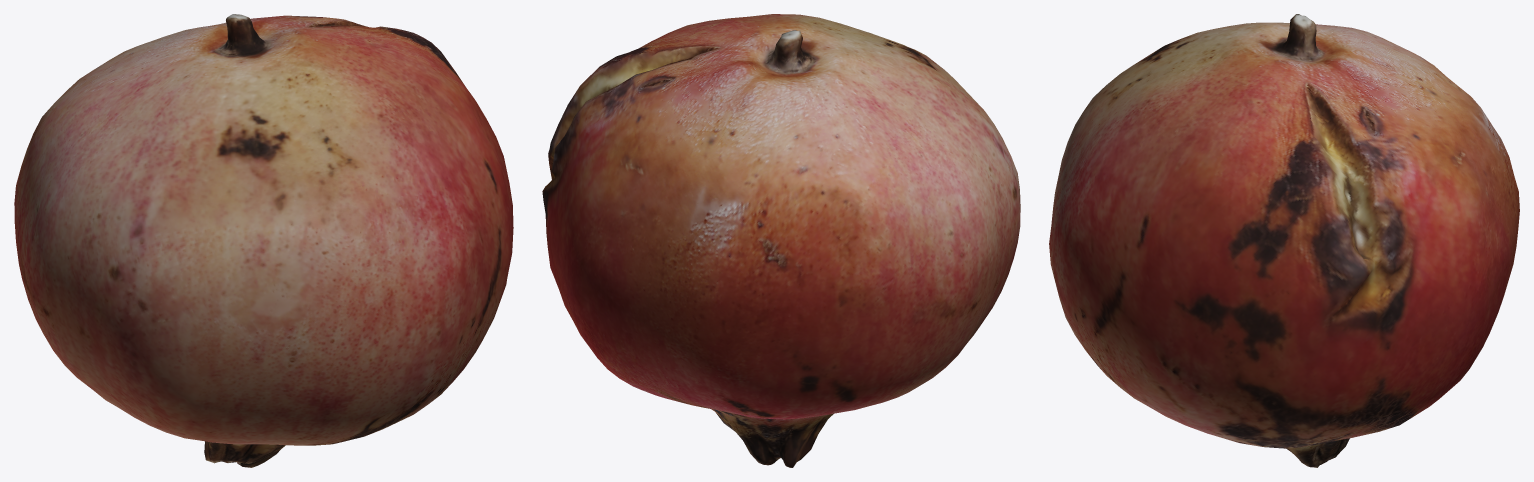
Rendered from pomegranate.fbx.
3 views of the same model, side by side, from view 1: azimuth 30°, elevation 25°; view 2: azimuth 150°, elevation 25°; view 3: azimuth 270°, elevation 25° (orthographic). The views are drawn at different scales.
Visible parts, largest first — view 1: Pomegranate; view 2: Pomegranate; view 3: Pomegranate.
Boxes of the visible parts, bbox=[...] form: Pomegranate: bbox=[14, 14, 513, 467]; Pomegranate: bbox=[542, 14, 1020, 467]; Pomegranate: bbox=[1049, 14, 1519, 467].
Bounding box in the file's own units: 100 × 100 × 96.81.
Materials: 1 (1 with a texture image).
